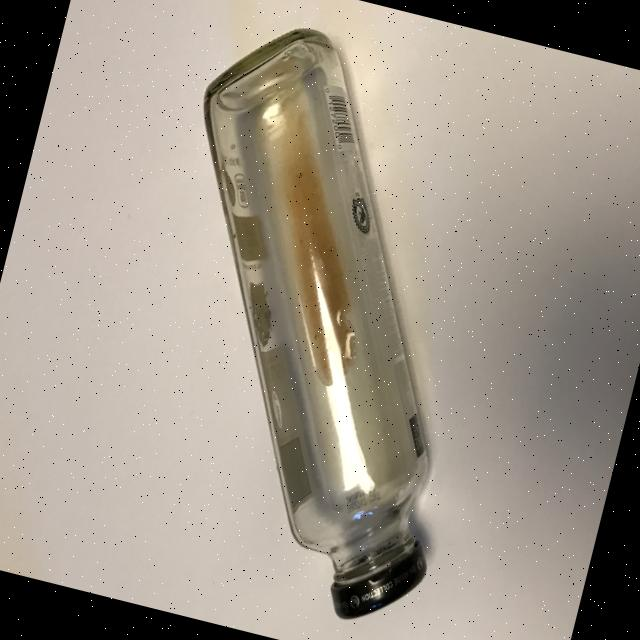glass: (88, 6, 548, 636)
